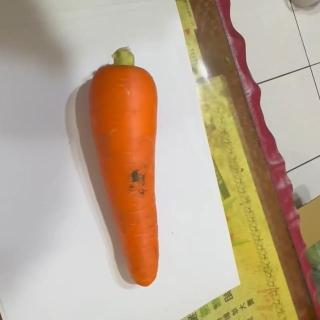carrot: (88, 47, 160, 286)
